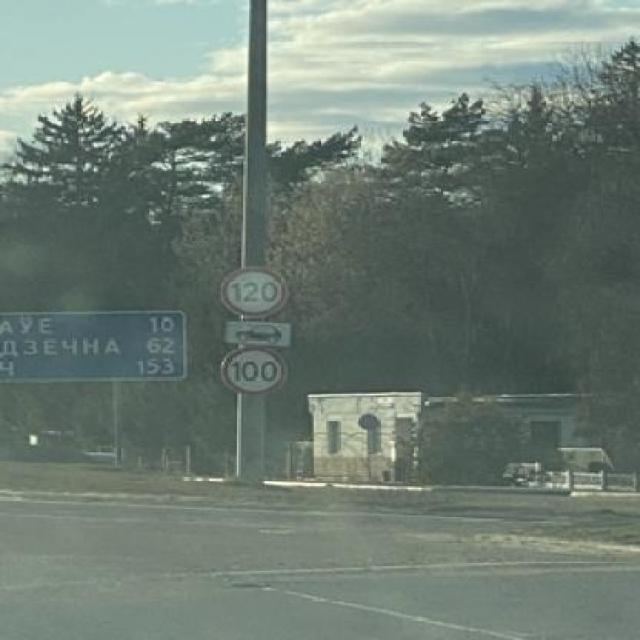forb_speed_over_100: (219, 347, 287, 398)
forb_speed_over_120: (224, 265, 285, 318)
